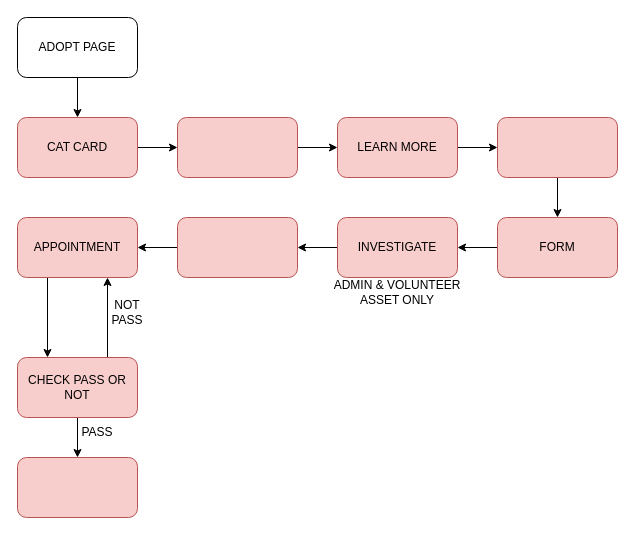
Some shapes in this 635 by 535 pixel diagram are drawn without their labels. The centre of each missing label's shape, as x and y in pixels:
CAT INFO: [237,147]
EMAIL / SITE: [237,247]
FINISH: [77,487]
REQUIREMENT: [557,147]
